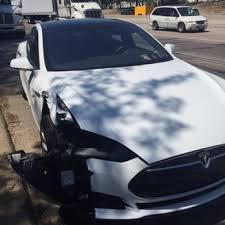Headlight-Damage: (46, 98, 82, 141)
